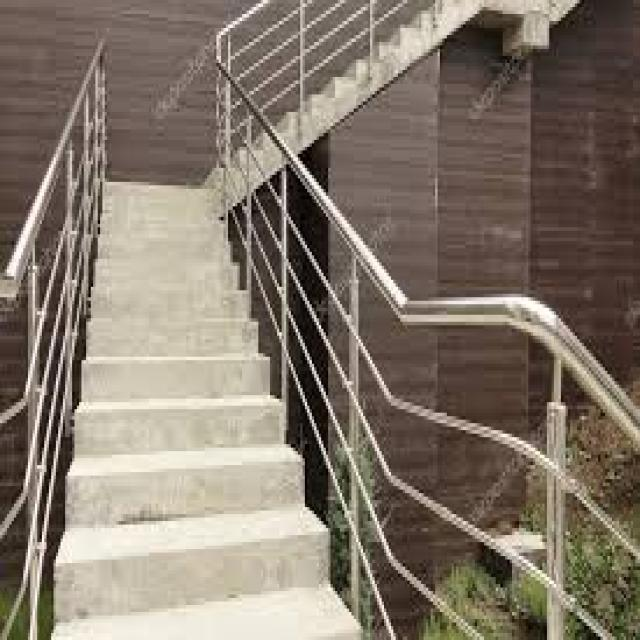upstair: (48, 164, 307, 601)
